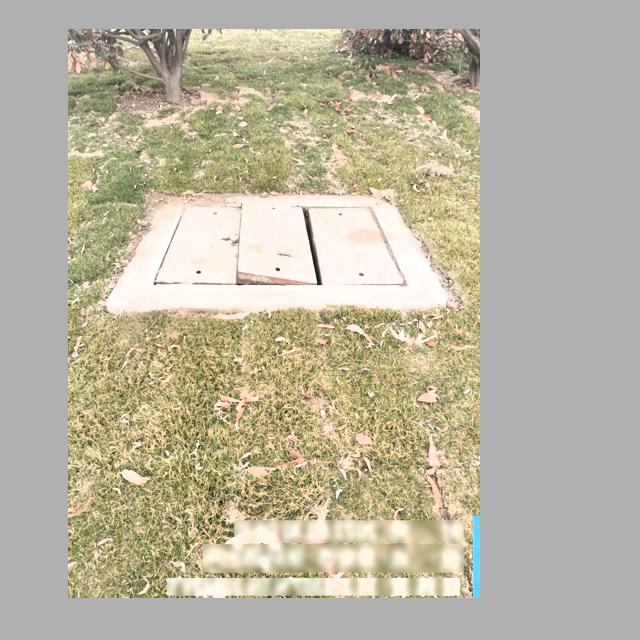uncovered: (142, 198, 414, 292)
